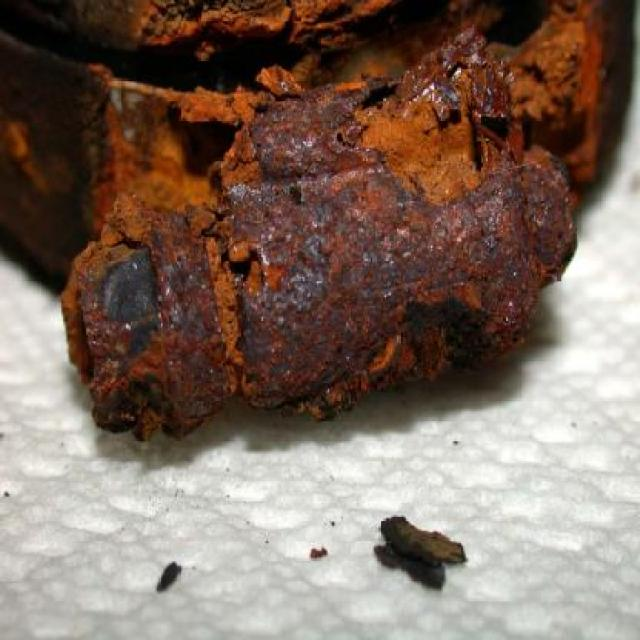corrosion: (5, 0, 637, 448)
